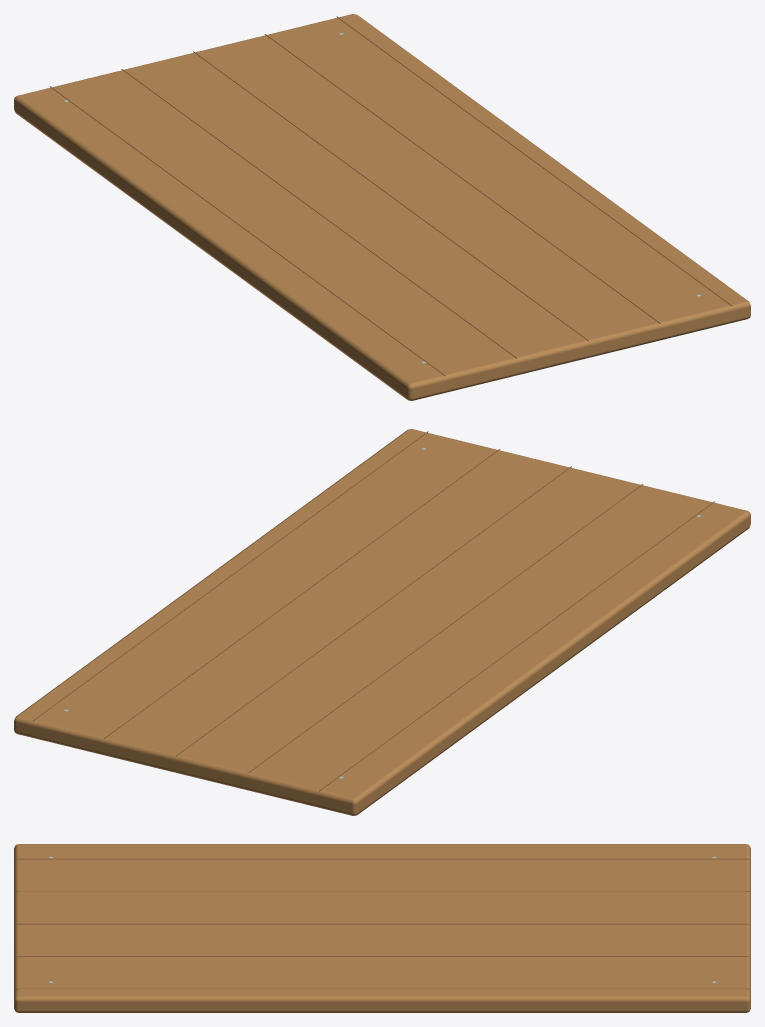
The model's file is dishwasher-stool-light.glb.
3 views of the same model, one above another, from view 1: azimuth 30°, elevation 25°; view 2: azimuth 150°, elevation 25°; view 3: azimuth 270°, elevation 25° (orthographic). The views are drawn at different scales.
Parts seen in each view (by area): view 1: wood, edge; view 2: wood, edge; view 3: wood, edge.
Part boxes in pixels (bbox=[...]): wood: bbox=[14, 14, 750, 400]; edge: bbox=[49, 16, 731, 376]; wood: bbox=[14, 429, 750, 815]; edge: bbox=[33, 431, 715, 791]; wood: bbox=[14, 844, 750, 1012]; edge: bbox=[15, 858, 749, 989].
Size of the model in its own units: 6 by 0.311 by 12.
